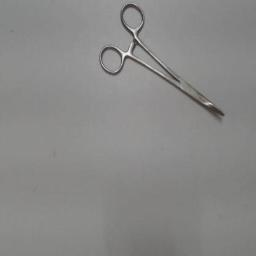Crile Artery Forceps: (97, 1, 229, 121)
